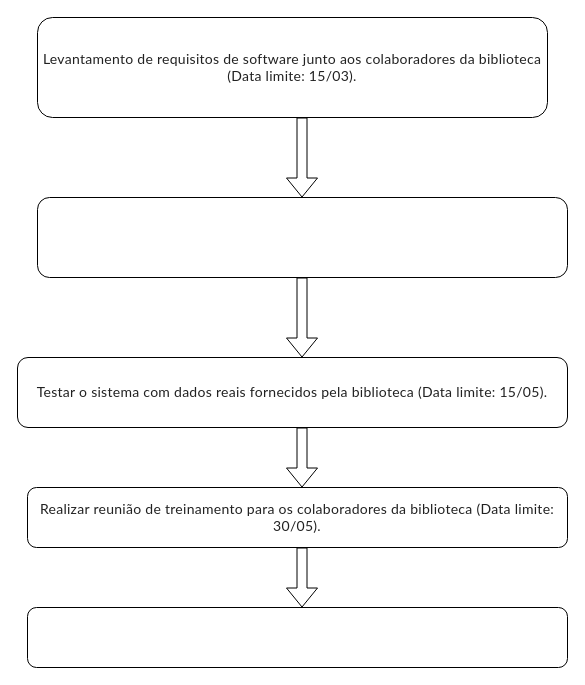
The diagram is 585 pixels wide and 685 high, and some of its shapes have lost their labels. Here are the shapes that lost their labels. From the top down, the centre of each, then its label:
At (x=302, y=237): "Modelar e desenvolver o software utilizando Python (Data limite: 30/04).".
At (x=297, y=637): "Realizar pesquisa de satisfação com os colaboradores (Data limite: 15/06).".
